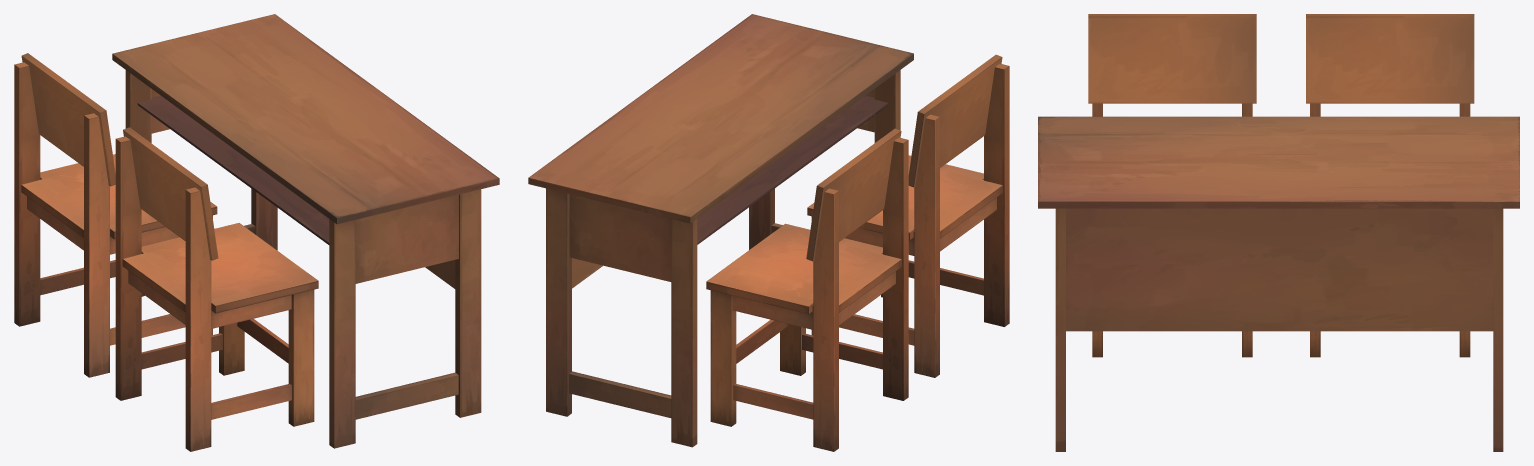
The model's file is Classroom Desk & Chair (Long).fbx.
The picture shows the model from 3 angles, left to right: view 1: azimuth 30°, elevation 25°; view 2: azimuth 150°, elevation 25°; view 3: azimuth 270°, elevation 25°; orthographic projection. The views are drawn at different scales.
Parts seen in each view (by area): view 1: polySurface25, polySurface26, polySurface20; view 2: polySurface25, polySurface20, polySurface26; view 3: polySurface25, polySurface20, polySurface26.
Boxes of the visible parts, box(x1,y1,x2,y2) form: polySurface25: box(112, 14, 499, 448); polySurface26: box(115, 127, 318, 451); polySurface20: box(14, 53, 217, 377); polySurface25: box(528, 14, 913, 447); polySurface20: box(706, 128, 908, 451); polySurface26: box(807, 54, 1009, 377); polySurface25: box(1038, 116, 1519, 451); polySurface20: box(1306, 14, 1474, 357); polySurface26: box(1088, 14, 1256, 357).
Size of the model in its own units: 0.9577 by 0.9029 by 1.31.
